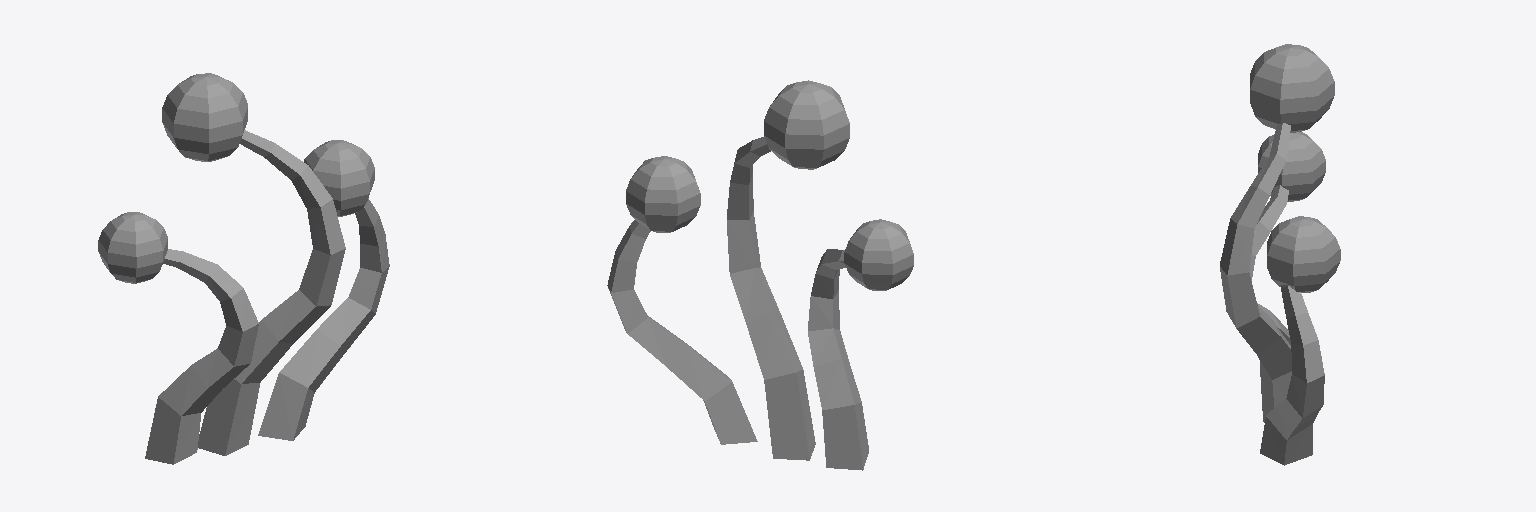
File: Plant_1_CUBezierCurve.obj
The picture shows the model from 3 angles: view 1: azimuth 30°, elevation 25°; view 2: azimuth 150°, elevation 25°; view 3: azimuth 270°, elevation 25°; orthographic projection.
Visible parts, largest first — view 1: Plant_1_CUBezierCurve.017; view 2: Plant_1_CUBezierCurve.017; view 3: Plant_1_CUBezierCurve.017.
Part boxes in pixels (left/top/right/bottom): Plant_1_CUBezierCurve.017: left=98, top=73, right=389, bottom=464; Plant_1_CUBezierCurve.017: left=607, top=80, right=913, bottom=470; Plant_1_CUBezierCurve.017: left=1220, top=44, right=1340, bottom=465.
Size of the model in its own units: 1.8 by 2.18 by 0.6419.